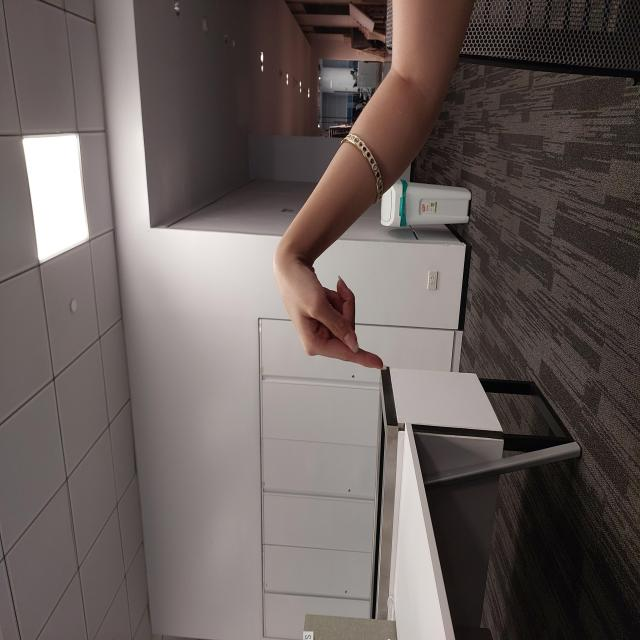P: (267, 272, 390, 385)
